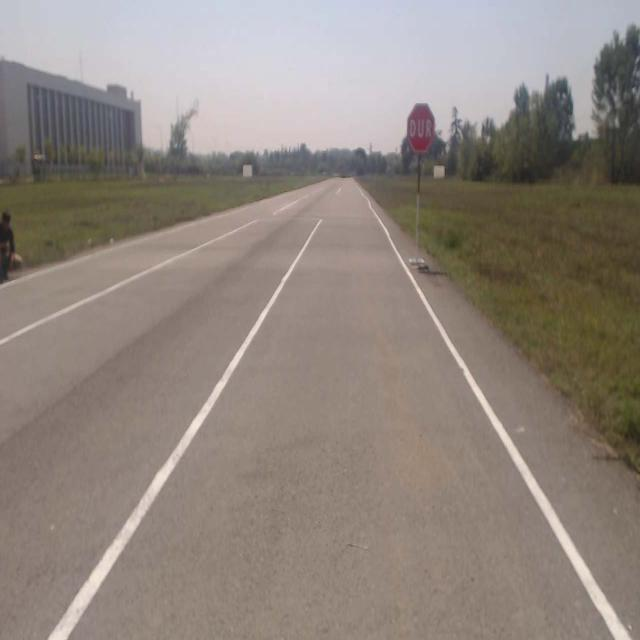dur: (408, 104, 434, 152)
